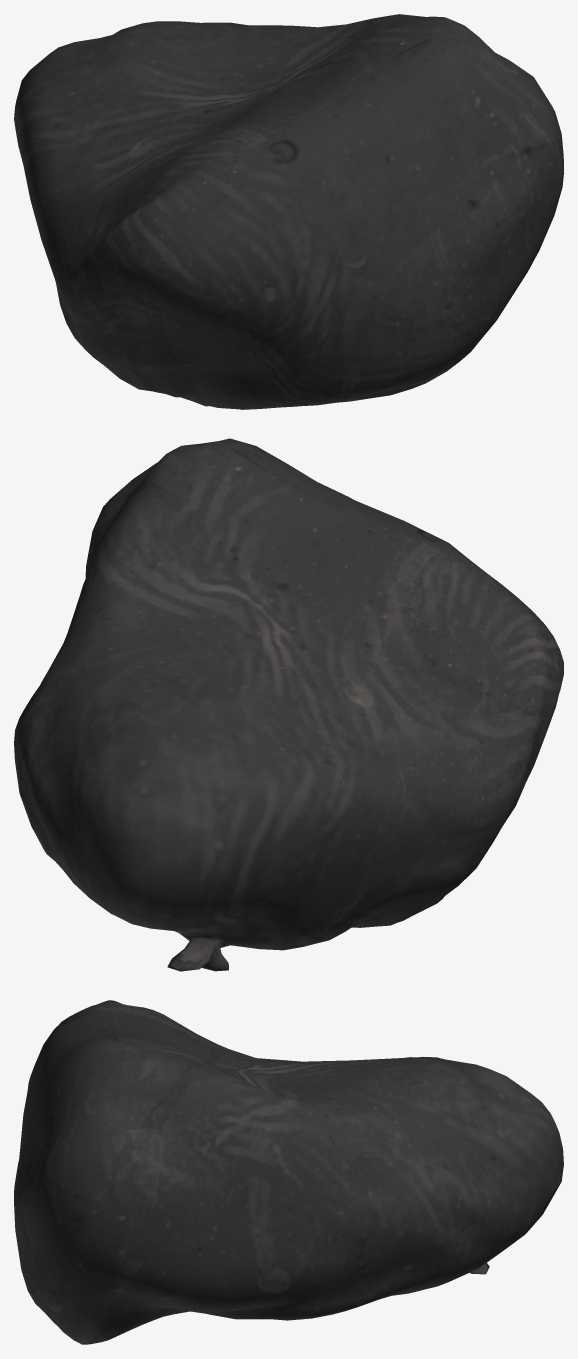
File: SM_Trashbag04.fbx
3 views of the same model, one above another, from view 1: azimuth 30°, elevation 25°; view 2: azimuth 150°, elevation 25°; view 3: azimuth 270°, elevation 25° (orthographic). The views are drawn at different scales.
Visible parts, largest first — view 1: SM_Trashbag04_LOD0; view 2: SM_Trashbag04_LOD0; view 3: SM_Trashbag04_LOD0.
Boxes of the visible parts, x1,y1,x2,y2 form: SM_Trashbag04_LOD0: [14, 14, 563, 409]; SM_Trashbag04_LOD0: [14, 438, 563, 971]; SM_Trashbag04_LOD0: [14, 1000, 563, 1344].
Size of the model in its own units: 37.9 by 43.43 by 28.94.
Materials: 1 (1 with a texture image).
